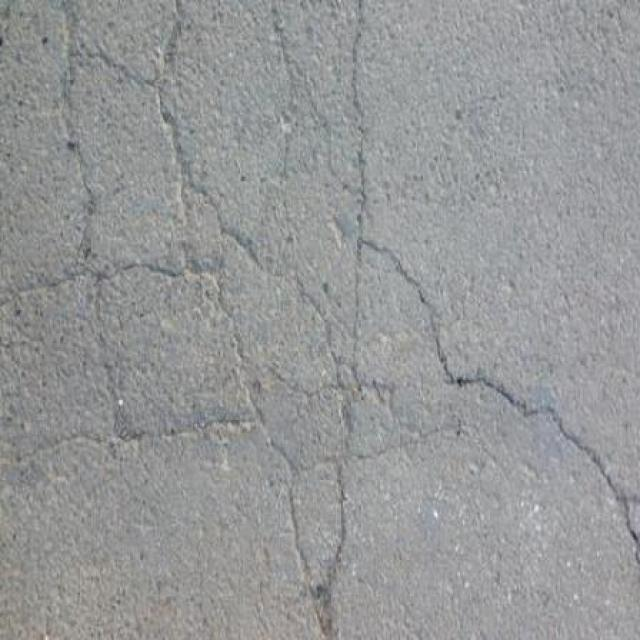Crack: (350, 29, 640, 563), (0, 254, 299, 479), (261, 388, 471, 639), (61, 0, 215, 322), (224, 2, 339, 398), (335, 29, 400, 458), (60, 0, 95, 278), (288, 485, 345, 639), (0, 281, 68, 307)
